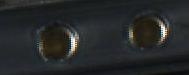joints: (33, 19, 79, 65), (125, 8, 170, 51)
